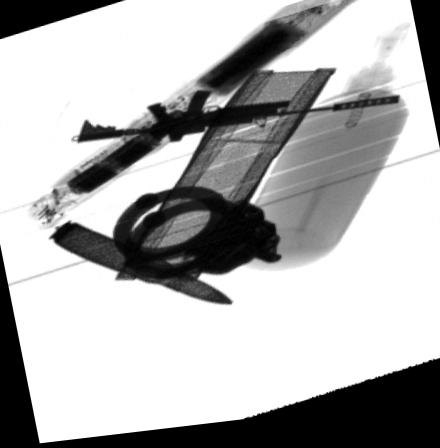Baton: (29, 0, 369, 230)
Bullet: (45, 222, 235, 311)
Gun: (75, 96, 401, 147)
HandCuffs: (113, 191, 282, 283)
